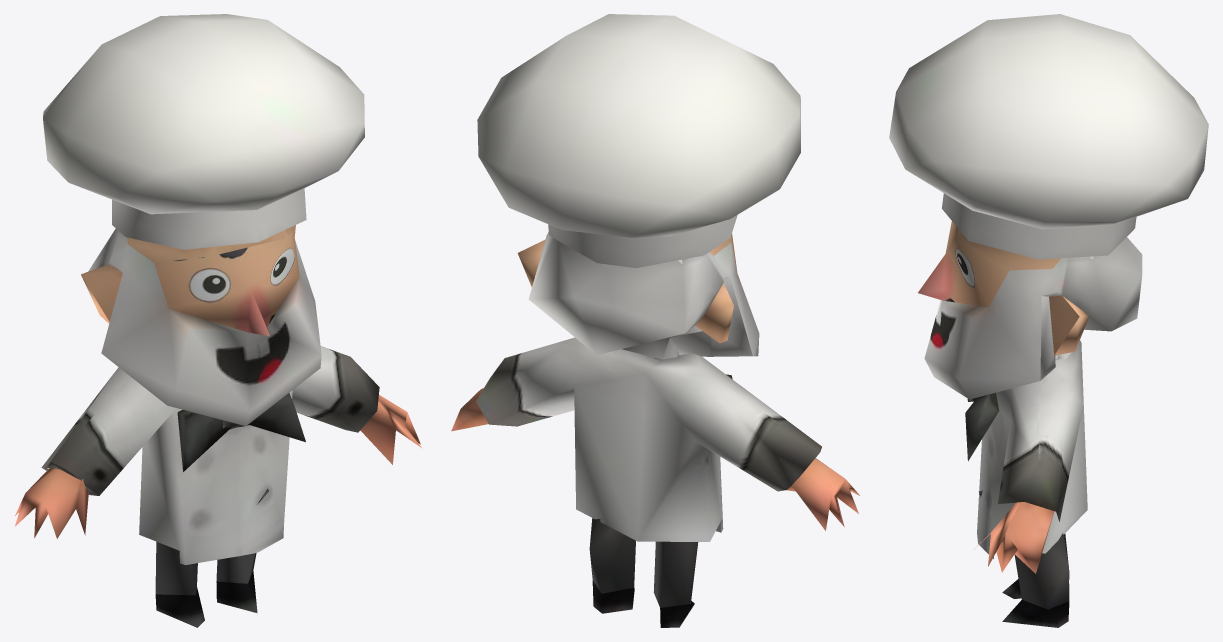
Rendered from Chef.glb.
3 renders of one model, left to right at view 1: azimuth 30°, elevation 25°; view 2: azimuth 150°, elevation 25°; view 3: azimuth 270°, elevation 25°, orthographic.
Visible parts, largest first — view 1: Obj3d66-15634637-2-624; view 2: Obj3d66-15634637-2-624; view 3: Obj3d66-15634637-2-624.
Part boxes in pixels (left/top/right/bottom): Obj3d66-15634637-2-624: left=15, top=14, right=421, bottom=627; Obj3d66-15634637-2-624: left=451, top=14, right=859, bottom=627; Obj3d66-15634637-2-624: left=889, top=14, right=1208, bottom=627.
Size of the model in its own units: 0.7104 by 0.9991 by 0.5037.
Materials: 1 (1 with a texture image).
